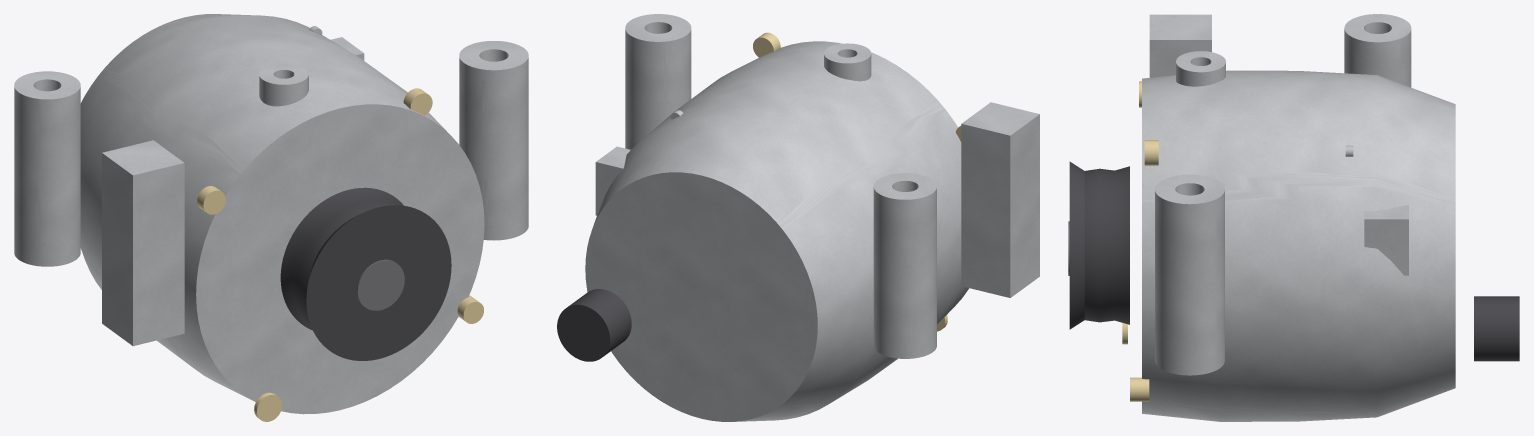
File: simple-shapes.glb
3 renders of one model, left to right at view 1: azimuth 30°, elevation 25°; view 2: azimuth 150°, elevation 25°; view 3: azimuth 270°, elevation 25°, orthographic. The views are drawn at different scales.
Parts seen in each view (by area): view 1: main body (cast housings + stator core), ribbed drive pulley, mounting flange with Z through-hole, mounting boss -X/-Z, mounting boss +X/+Z, shaft hex nut, mounting boss -X/+Z, housing through-bolt -X/-Y, housing through-bolt -X/+Y, housing through-bolt +X/+Y, housing through-bolt +X/-Y; view 2: main body (cast housings + stator core), mounting flange with Z through-hole, mounting boss -X/-Z, mounting boss +X/+Z, B+ terminal post with insulator and nut, mounting boss -X/+Z, plastic electrical connector, housing through-bolt +X/+Y; view 3: main body (cast housings + stator core), mounting boss +X/+Z, ribbed drive pulley, mounting boss -X/-Z, mounting flange with Z through-hole, B+ terminal post with insulator and nut, plastic electrical connector, mounting boss -X/+Z, housing through-bolt +X/-Y.
Boxes of the visible parts, x1,y1,x2,y2 form: main body (cast housings + stator core): [80, 14, 484, 414]; ribbed drive pulley: [280, 187, 451, 360]; mounting flange with Z through-hole: [102, 140, 184, 346]; mounting boss -X/-Z: [14, 71, 80, 266]; mounting boss +X/+Z: [459, 41, 528, 240]; shaft hex nut: [357, 259, 404, 310]; mounting boss -X/+Z: [259, 63, 308, 106]; housing through-bolt -X/-Y: [254, 392, 282, 421]; housing through-bolt -X/+Y: [197, 186, 225, 214]; housing through-bolt +X/+Y: [403, 88, 432, 115]; housing through-bolt +X/-Y: [457, 295, 483, 323]; main body (cast housings + stator core): [585, 41, 968, 421]; mounting flange with Z through-hole: [961, 102, 1039, 297]; mounting boss -X/-Z: [873, 173, 936, 358]; mounting boss +X/+Z: [625, 14, 691, 149]; B+ terminal post with insulator and nut: [557, 289, 631, 361]; mounting boss -X/+Z: [824, 43, 871, 81]; plastic electrical connector: [595, 146, 630, 215]; housing through-bolt +X/+Y: [753, 32, 780, 57]; main body (cast housings + stator core): [1142, 70, 1455, 421]; mounting boss +X/+Z: [1155, 174, 1224, 375]; ribbed drive pulley: [1069, 161, 1129, 329]; mounting boss -X/-Z: [1344, 14, 1411, 87]; mounting flange with Z through-hole: [1149, 14, 1211, 77]; B+ terminal post with insulator and nut: [1474, 296, 1519, 361]; plastic electrical connector: [1364, 205, 1408, 275]; mounting boss -X/+Z: [1176, 51, 1225, 86]; housing through-bolt +X/-Y: [1130, 377, 1149, 401].
Bounding box in the file's own units: 0.187 × 0.1424 × 0.1764.
14 materials, 7 textured.
